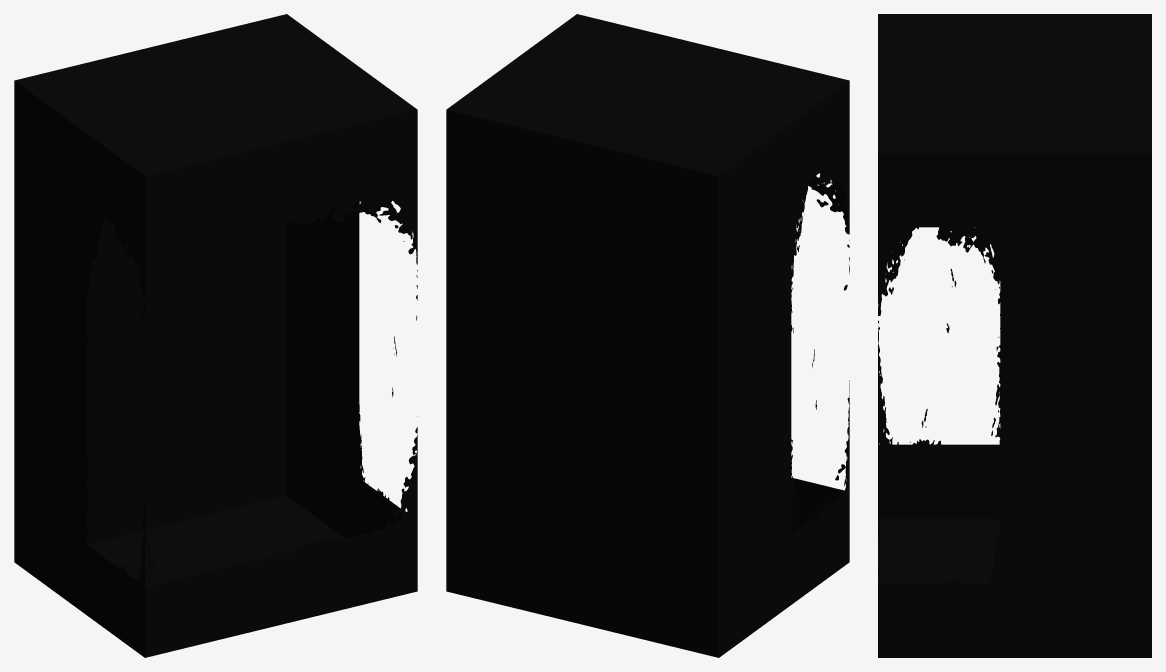
The model's file is Box_blue.FBX.
3 renders of one model, left to right at view 1: azimuth 30°, elevation 25°; view 2: azimuth 150°, elevation 25°; view 3: azimuth 270°, elevation 25°, orthographic. The views are drawn at different scales.
Parts seen in each view (by area): view 1: Box030; view 2: Box030; view 3: Box030.
Part boxes in pixels (x1,y1,x2,y2): Box030: (14, 14, 417, 657); Box030: (446, 14, 849, 657); Box030: (878, 14, 1151, 657).
Size of the model in its own units: 0.1783 by 0.3011 by 0.1481.
